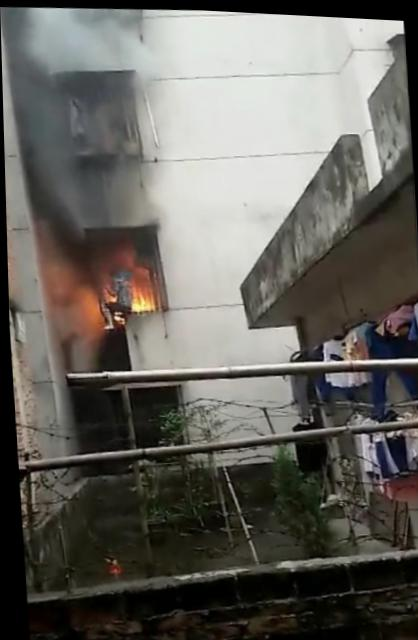fire: (127, 268, 153, 313)
